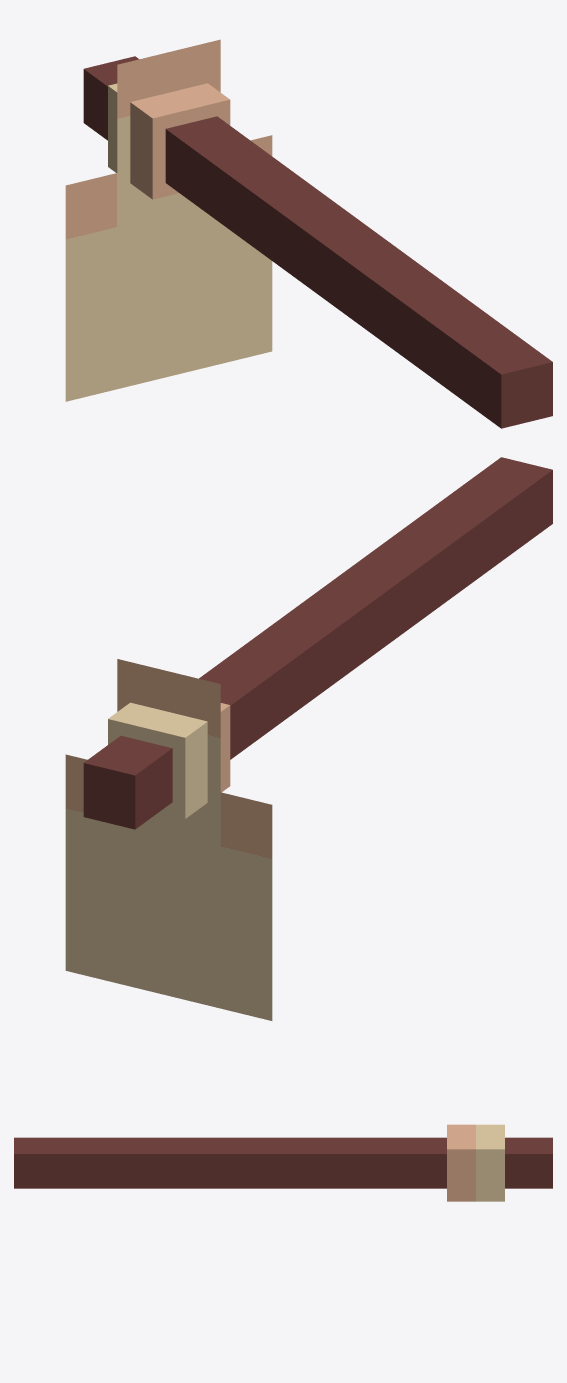
The model's file is Hoe.gltf.
The picture shows the model from 3 angles, top to bottom: view 1: azimuth 30°, elevation 25°; view 2: azimuth 150°, elevation 25°; view 3: azimuth 270°, elevation 25°; orthographic projection. The views are drawn at different scales.
Parts seen in each view (by area): view 1: mesh; view 2: mesh; view 3: mesh.
Part boxes in pixels (<box>): mesh: <box>65,39,552,428</box>; mesh: <box>65,457,552,1020</box>; mesh: <box>14,1124,552,1201</box>.
Bounding box in the file's own units: 0.375 × 0.375 × 0.875.
1 material, 1 textured.
